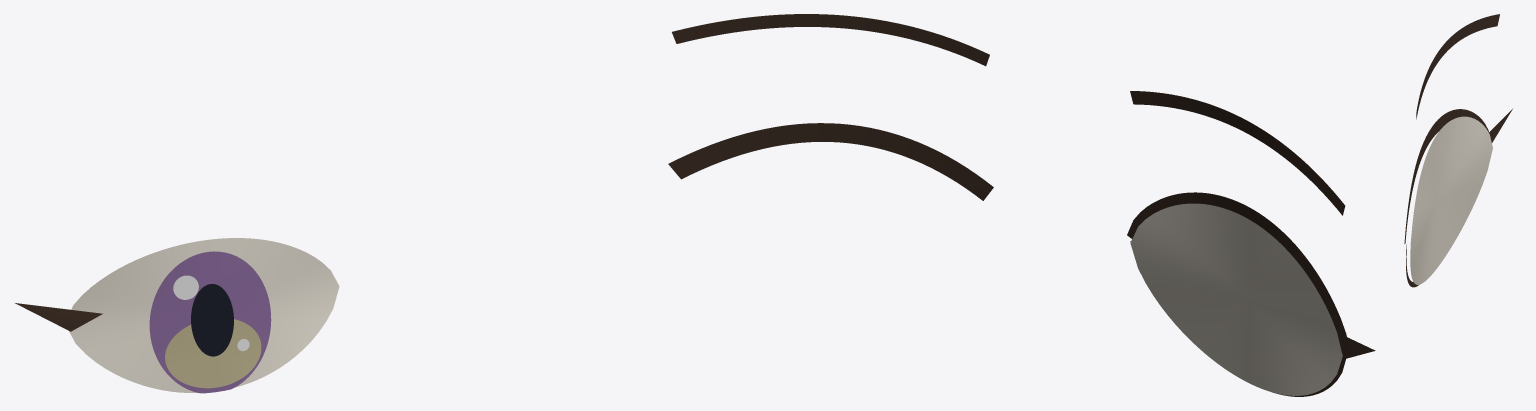
3 renders of one model, left to right at view 1: azimuth 30°, elevation 25°; view 2: azimuth 150°, elevation 25°; view 3: azimuth 270°, elevation 25°, orthographic. The views are drawn at different scales.
Visible parts, largest first — view 1: Eye_White_-1, Eye_Iris_-1, Eye_Iris_Light_-1, Eye_Pupil_-1, Eye_LashWing_-1; view 2: Eye_White_-1, Eye_Closed_1, Eyebrow_1, Eye_UpperLid_-1, Eyebrow_-1; view 3: Eye_White_-1, Eyebrow_-1, Eye_UpperLid_-1, Eye_LashWing_-1.
Part boxes in pixels (box(x1,y1,x2,y2)): Eye_White_-1: box(69, 238, 339, 392); Eye_Iris_-1: box(149, 251, 271, 393); Eye_Iris_Light_-1: box(165, 319, 261, 388); Eye_Pupil_-1: box(191, 284, 233, 356); Eye_LashWing_-1: box(15, 303, 102, 331); Eye_White_-1: box(1130, 203, 1342, 395); Eye_Closed_1: box(668, 123, 993, 200); Eyebrow_1: box(672, 14, 989, 66); Eye_UpperLid_-1: box(1127, 192, 1350, 354); Eyebrow_-1: box(1130, 91, 1345, 215); Eye_White_-1: box(1410, 116, 1492, 284); Eyebrow_-1: box(1416, 14, 1499, 119); Eye_UpperLid_-1: box(1404, 109, 1488, 243); Eye_LashWing_-1: box(1489, 109, 1512, 142).
Size of the model in its own units: 0.4211 by 0.1616 by 0.0715.
